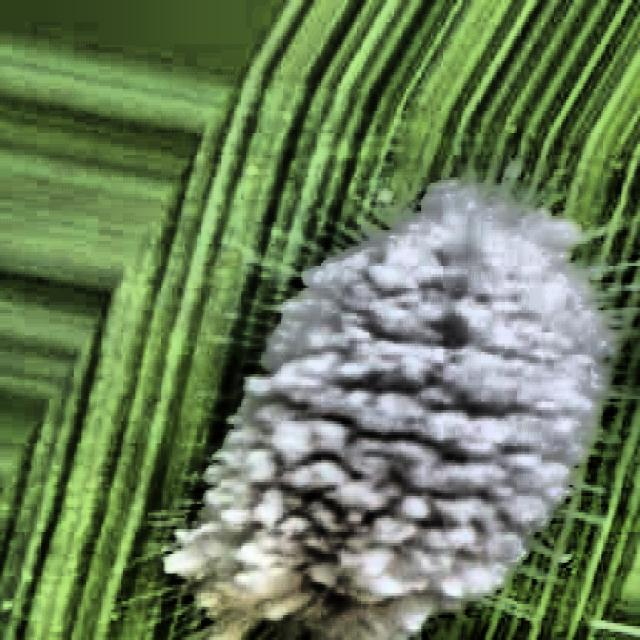Mealy-bug: (134, 127, 640, 640)
